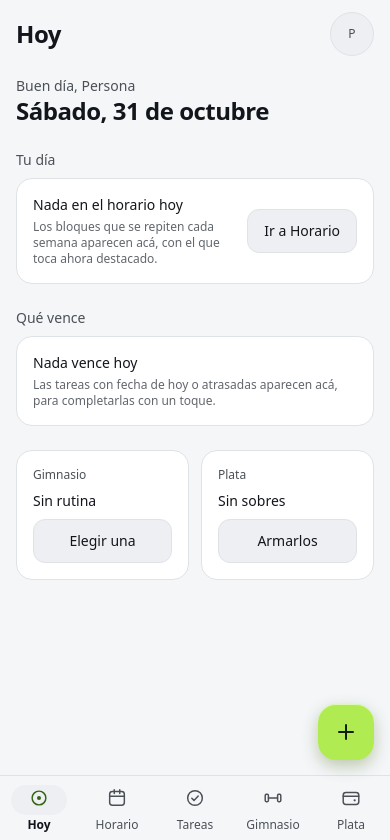
Test: esqueleto de la aplicación › el avatar lleva a Ajustes, que no es una pestaña
Click the link named "Ajustes" at [352, 34], box [330,12,374,56]
(page scrolled)
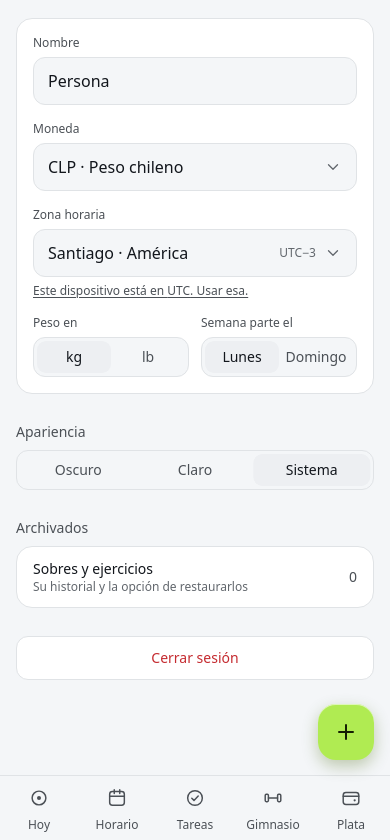
Result: the button "Cerrar sesión" is shown at [16,636,374,680]
